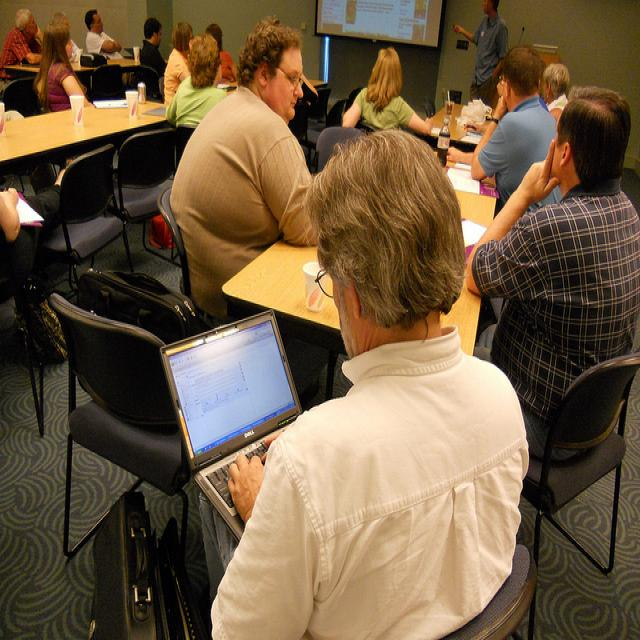chair: (49, 293, 193, 558), (524, 352, 640, 631), (50, 145, 143, 289), (438, 543, 538, 640), (121, 128, 176, 214), (158, 175, 193, 294), (91, 65, 159, 100), (316, 127, 364, 173), (2, 76, 42, 118), (310, 86, 333, 120)
dining table: (222, 157, 500, 356), (3, 94, 179, 166), (1, 50, 168, 74), (431, 98, 496, 140), (307, 78, 329, 87)
